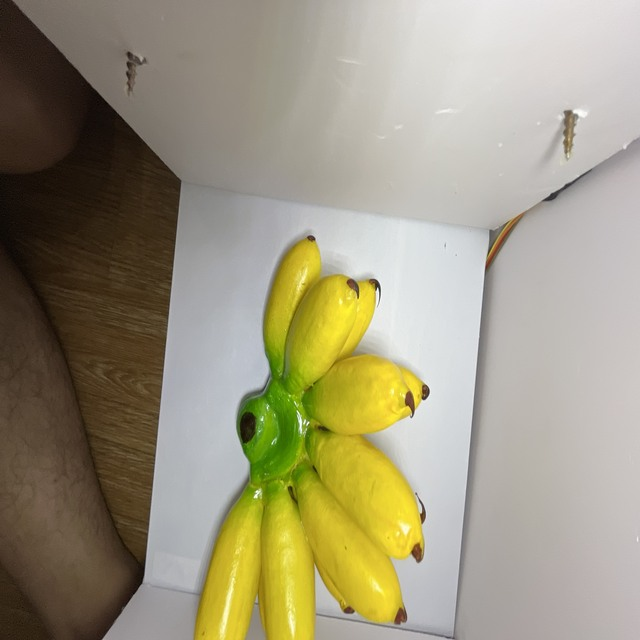Chuoi: (187, 219, 435, 640)
